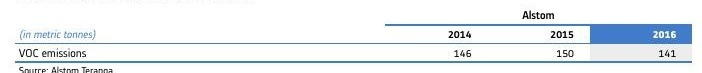table: (0, 0, 702, 73)
